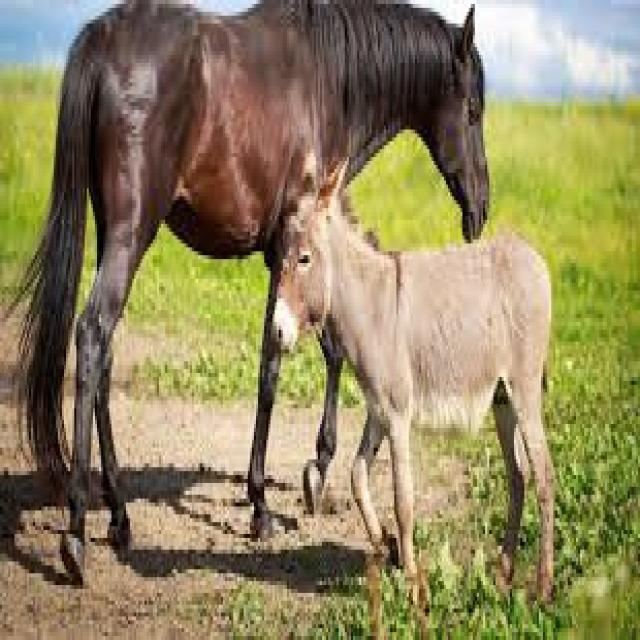donkey: (277, 141, 551, 597)
horse: (23, 0, 485, 577)
